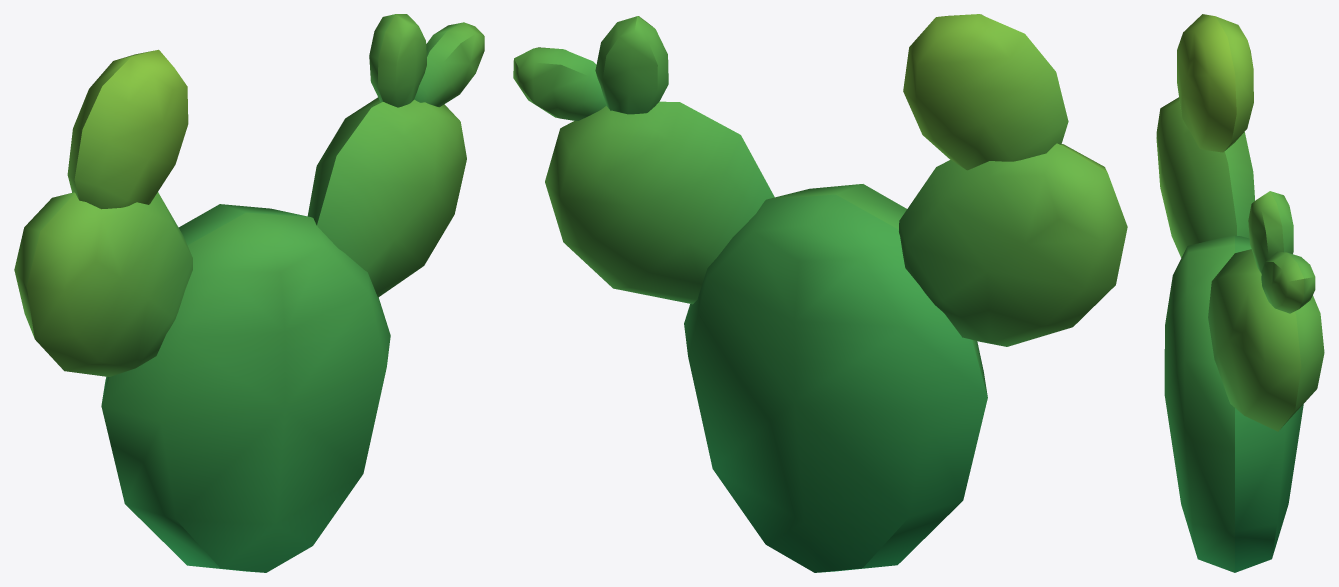
Rendered from cactus.glb.
The picture shows the model from 3 angles, left to right: view 1: azimuth 30°, elevation 25°; view 2: azimuth 150°, elevation 25°; view 3: azimuth 270°, elevation 25°; orthographic projection. The views are drawn at different scales.
Parts seen in each view (by area): view 1: cactus_D; view 2: cactus_D; view 3: cactus_D.
Part boxes in pixels (<box>): cactus_D: <box>14,14,484,572</box>; cactus_D: <box>513,14,1127,572</box>; cactus_D: <box>1156,14,1324,572</box>.
Bounding box in the file's own units: 0.517 × 0.5289 × 0.1629.
Materials: 1 (1 with a texture image).
